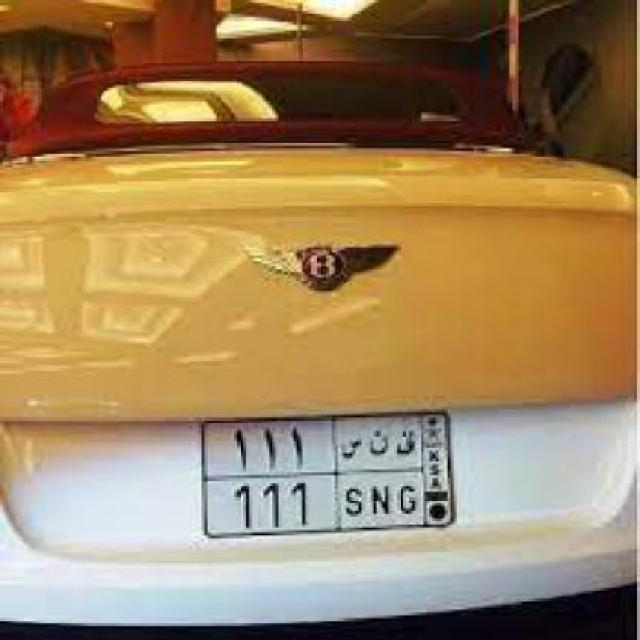license_plate: (198, 406, 457, 542)
